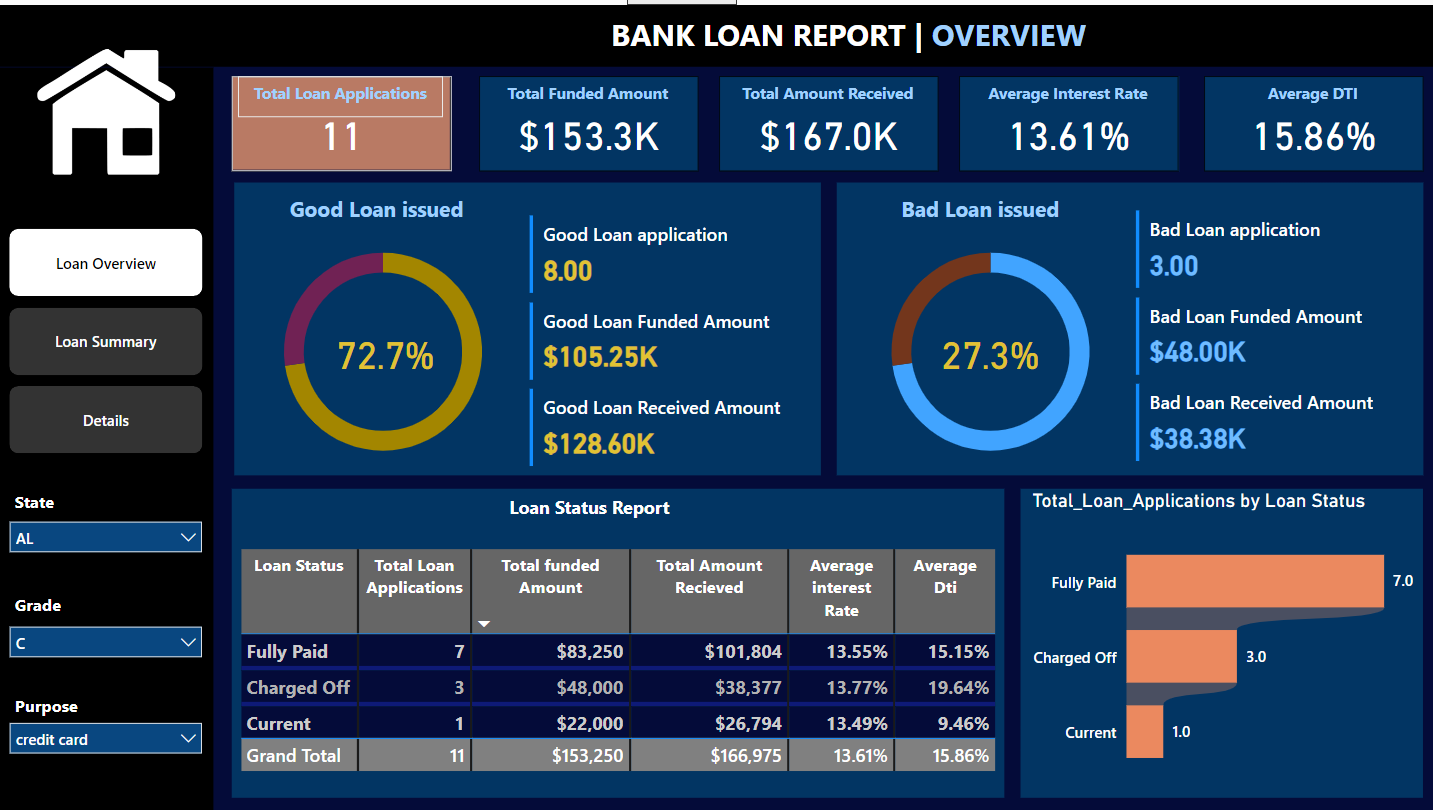

What the dashboard file says about the page in this screenshot:
{"tool":"powerbi","page":{"name":"Loan Overview","canvas":[1280,720],"ordinal":0},"visuals":[{"type":"shape","box":[910.9,430.7,358.3,275.1],"z":0},{"type":"slicer","fields":{"Values":["Bank_loan_data.grade"]},"box":[0,543.1,191.8,41],"z":0,"group":"g8"},{"type":"slicer","fields":{"Values":["Bank_loan_data.purpose"]},"box":[0,629.5,191.8,41],"z":0,"group":"g6"},{"type":"shape","box":[0,0,1280.3,55],"z":1000},{"type":"textbox","box":[9.7,519,67.6,33.8],"z":1000,"group":"g8"},{"type":"textbox","box":[9.7,609,86.9,33.8],"z":1000,"group":"g6"},{"type":"shape","box":[0,55.5,191.8,664.7],"z":2000},{"type":"textbox","box":[540.5,3.6,452.4,51.9],"z":3000},{"type":"shape","box":[208.5,63.9,195.4,84.5],"z":3000,"group":"g1"},{"type":"shape","box":[428.3,63.9,195.4,84.5],"z":3000,"group":"g2"},{"type":"shape","box":[641.8,63.9,195.4,84.5],"z":3000,"group":"g3"},{"type":"shape","box":[856.6,63.9,195.4,84.5],"z":3000,"group":"g4"},{"type":"shape","box":[1073.7,63.9,195.4,84.5],"z":3000,"group":"g5"},{"type":"group","id":"g1","title":"Group 1","box":[208.5,63.9,195.4,84.5],"z":4000},{"type":"card","fields":{"Values":["Bank_loan_data.Total_Loan_Applications"]},"box":[208.5,91.6,195.4,44.6],"z":4000,"group":"g1"},{"type":"card","fields":{"Values":["Bank_loan_data.Toatal funded Amount"]},"box":[428.3,91.6,195.4,44.6],"z":4000,"group":"g2"},{"type":"card","fields":{"Values":["Bank_loan_data.Total Amount Recieved"]},"box":[641.8,91.6,195.4,44.6],"z":4000,"group":"g3"},{"type":"card","fields":{"Values":["Bank_loan_data.Average interest Rate"]},"box":[856.6,91.6,195.4,44.6],"z":4000,"group":"g4"},{"type":"card","fields":{"Values":["Bank_loan_data.Average Dti"]},"box":[1073.7,91.6,195.4,44.6],"z":4000,"group":"g5"},{"type":"textbox","box":[214.5,63.9,182.2,36.2],"z":5000,"group":"g1"},{"type":"group","id":"g2","title":"Group 1","box":[428.3,63.9,195.4,84.5],"z":5000},{"type":"textbox","box":[434.3,63.9,182.2,36.2],"z":5000,"group":"g2"},{"type":"textbox","box":[647.8,63.9,182.2,36.2],"z":5000,"group":"g3"},{"type":"textbox","box":[862.6,63.9,182.2,36.2],"z":5000,"group":"g4"},{"type":"textbox","box":[1079.7,63.9,182.2,36.2],"z":5000,"group":"g5"},{"type":"group","id":"g3","title":"Group 1","box":[641.8,63.9,195.4,84.5],"z":6000},{"type":"group","id":"g4","title":"Group 1","box":[856.6,63.9,195.4,84.5],"z":7000},{"type":"shape","box":[209.9,158,522.4,260.6],"z":8000},{"type":"group","id":"g5","title":"Group 1","box":[1073.7,63.9,195.4,84.5],"z":9000},{"type":"donutChart","fields":{"Category":["Bank_loan_data.Good loan vs Bad loan"],"Y":["Bank_loan_data.Total_Loan_Applications"]},"box":[218.4,194.2,249.7,230.4],"z":10000},{"type":"shape","box":[746.8,158,522.4,260.6],"z":11000},{"type":"card","fields":{"Values":["Bank_loan_data.Good Loan %"]},"box":[294.4,288.3,102.5,42.2],"z":12000},{"type":"textbox","box":[246.1,164.1,182.2,36.2],"z":13000},{"type":"cardVisual","fields":{"Data":["Bank_loan_data.Good Loan application","Bank_loan_data.Good Loan Funded Amount","Bank_loan_data.Good Loan Received Amount"]},"box":[468.1,182.2,243.7,235.3],"z":14000},{"type":"donutChart","fields":{"Category":["Bank_loan_data.Good loan vs Bad loan"],"Y":["Bank_loan_data.Total_Loan_Applications"]},"box":[758.9,194.2,249.7,230.4],"z":15000},{"type":"card","fields":{"Values":["Bank_loan_data.Bad Loan %"]},"box":[832.4,288.3,102.5,42.2],"z":16000},{"type":"textbox","box":[784.2,164.1,182.2,36.2],"z":17000},{"type":"shape","box":[208.7,430.7,687.7,275.1],"z":18000},{"type":"cardVisual","fields":{"Data":["Bank_loan_data.Bad Loan application","Bank_loan_data.Bad Loan Funded Amount","Bank_loan_data.Bad Loan Received Amount"]},"box":[1008.6,178.6,243.7,235.3],"z":19000},{"type":"tableEx","fields":{"Values":["Bank_loan_data.loan_status","Bank_loan_data.Total_Loan_Applications","Bank_loan_data.Toatal funded Amount","Bank_loan_data.Total Amount Recieved","Bank_loan_data.Average interest Rate","Bank_loan_data.Average Dti"]},"box":[209.9,480.2,686.5,219.6],"z":20000},{"type":"textbox","box":[403,430.7,247.3,36.2],"z":21000},{"type":"barChart","fields":{"Category":["Bank_loan_data.loan_status"],"Y":["Bank_loan_data.Total_Loan_Applications"]},"box":[915.7,430.7,349.9,275.1],"z":22000},{"type":"slicer","fields":{"Values":["Bank_loan_data.address_state"]},"box":[0,449,191.8,49.5],"z":22000,"group":"g7"},{"type":"group","id":"g6","title":"Group 2","box":[0,609,191.8,61.5],"z":23000},{"type":"group","id":"g7","title":"Group 4","box":[0,427.3,191.8,156.9],"z":24000},{"type":"textbox","box":[9.7,427.3,67.6,30.2],"z":24001,"group":"g7"},{"type":"group","id":"g8","title":"Group 3","box":[0,519,191.8,65.1],"z":24007,"group":"g7"},{"type":"pageNavigator","box":[9.7,199.1,172.5,202.7],"z":25000},{"type":"image","box":[30.2,25.3,132.7,138.7],"z":25001}]}

Visuals, with their boxes in screenshot pixels (x1, y1, x2, y2), scaled from the page's 1280x720 canvas onto the 1433x810 screenshot:
shape: [1020, 485, 1421, 794]
slicer - Bank_loan_data.grade: [0, 611, 215, 657]
slicer - Bank_loan_data.purpose: [0, 708, 215, 754]
shape: [0, 0, 1432, 62]
textbox: [11, 584, 87, 622]
textbox: [11, 685, 108, 723]
shape: [0, 62, 215, 809]
textbox: [605, 4, 1112, 62]
shape: [233, 72, 452, 167]
shape: [479, 72, 698, 167]
shape: [719, 72, 937, 167]
shape: [959, 72, 1178, 167]
shape: [1202, 72, 1421, 167]
"Group 1" group: [233, 72, 452, 167]
card - Bank_loan_data.Total_Loan_Applications: [233, 103, 452, 153]
card - Bank_loan_data.Toatal funded Amount: [479, 103, 698, 153]
card - Bank_loan_data.Total Amount Recieved: [719, 103, 937, 153]
card - Bank_loan_data.Average interest Rate: [959, 103, 1178, 153]
card - Bank_loan_data.Average Dti: [1202, 103, 1421, 153]
textbox: [240, 72, 444, 113]
"Group 1" group: [479, 72, 698, 167]
textbox: [486, 72, 690, 113]
textbox: [725, 72, 929, 113]
textbox: [966, 72, 1170, 113]
textbox: [1209, 72, 1413, 113]
"Group 1" group: [719, 72, 937, 167]
"Group 1" group: [959, 72, 1178, 167]
shape: [235, 178, 820, 471]
"Group 1" group: [1202, 72, 1421, 167]
donutChart - Bank_loan_data.Good loan vs Bad loan x Bank_loan_data.Total_Loan_Applications: [245, 218, 524, 478]
shape: [836, 178, 1421, 471]
card - Bank_loan_data.Good Loan %: [330, 324, 444, 372]
textbox: [276, 185, 479, 225]
cardVisual - Bank_loan_data.Good Loan application x Bank_loan_data.Good Loan Funded Amount: [524, 205, 797, 470]
donutChart - Bank_loan_data.Good loan vs Bad loan x Bank_loan_data.Total_Loan_Applications: [850, 218, 1129, 478]
card - Bank_loan_data.Bad Loan %: [932, 324, 1047, 372]
textbox: [878, 185, 1082, 225]
shape: [234, 485, 1004, 794]
cardVisual - Bank_loan_data.Bad Loan application x Bank_loan_data.Bad Loan Funded Amount: [1129, 201, 1402, 466]
tableEx - Bank_loan_data.loan_status x Bank_loan_data.Total_Loan_Applications: [235, 540, 1004, 787]
textbox: [451, 485, 728, 525]
barChart - Bank_loan_data.loan_status x Bank_loan_data.Total_Loan_Applications: [1025, 485, 1417, 794]
slicer - Bank_loan_data.address_state: [0, 505, 215, 561]
"Group 2" group: [0, 685, 215, 754]
"Group 4" group: [0, 481, 215, 657]
textbox: [11, 481, 87, 515]
"Group 3" group: [0, 584, 215, 657]
pageNavigator: [11, 224, 204, 452]
image: [34, 28, 182, 184]
